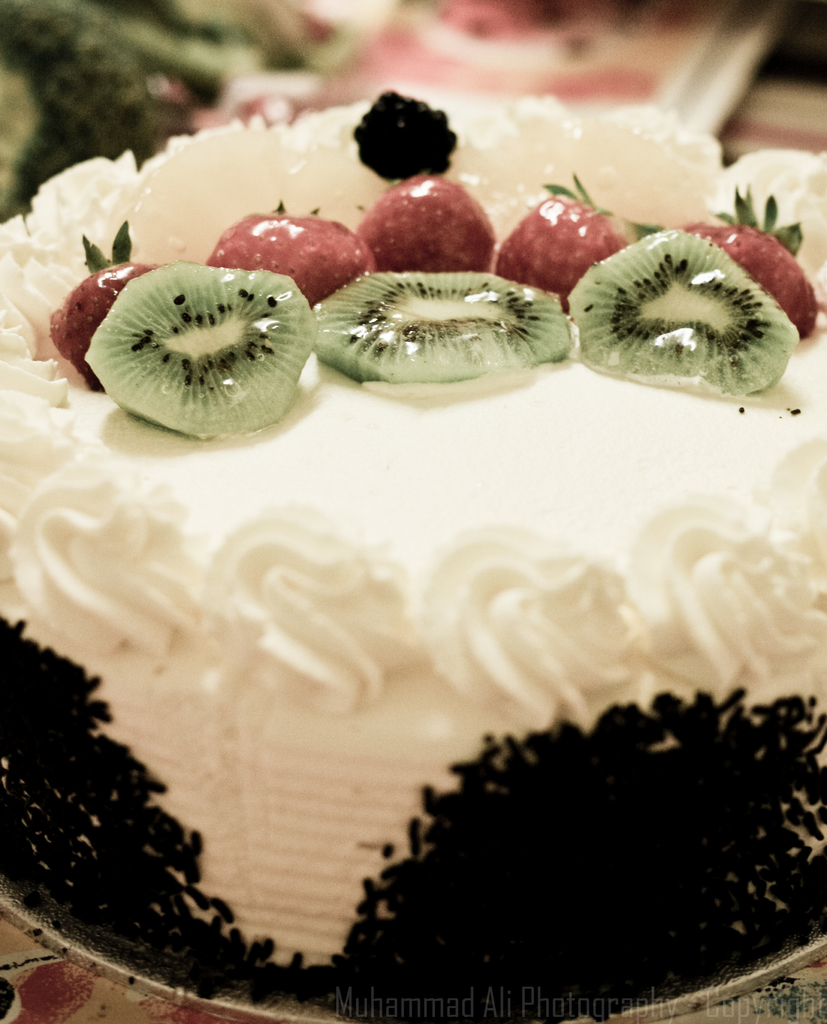cake: (0, 90, 826, 1023)
